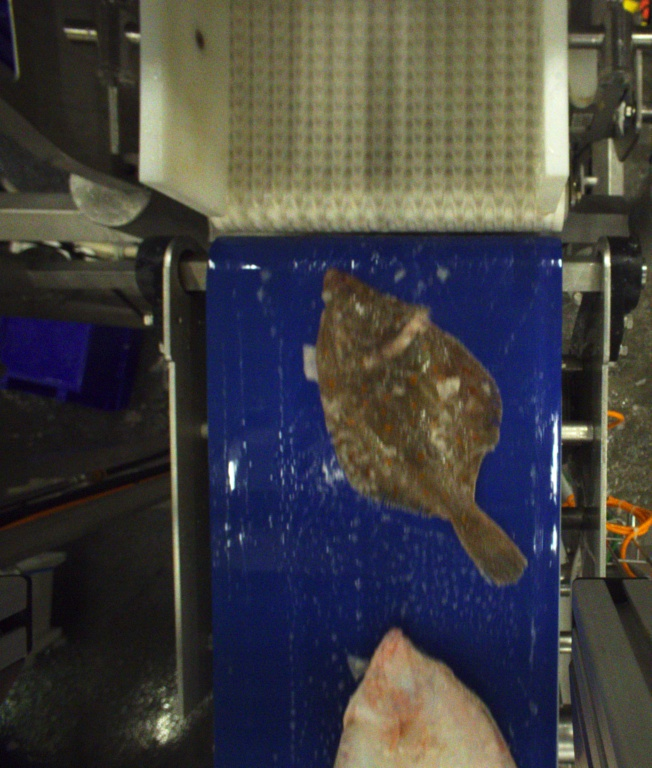PLE: (317, 270, 529, 587)
